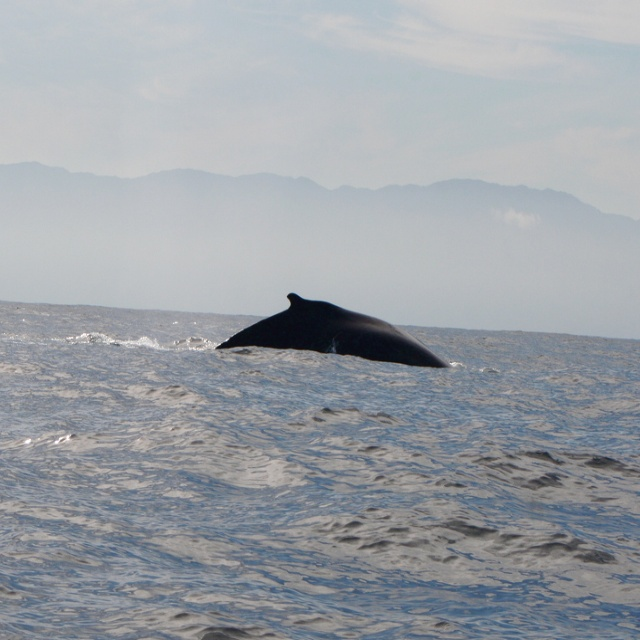Whale: (215, 293, 453, 368)
